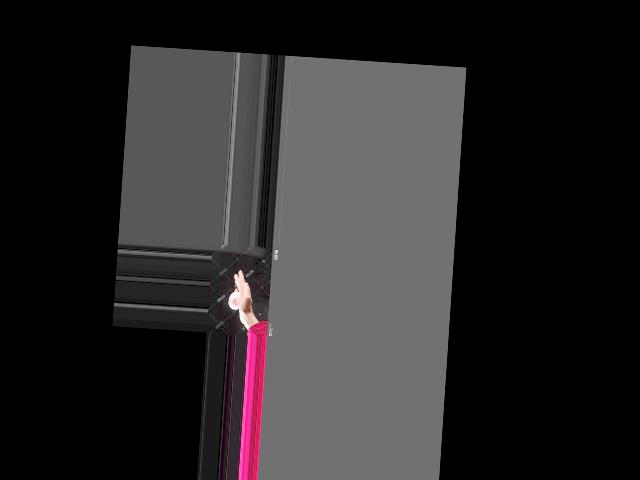egg: (228, 291, 241, 310)
